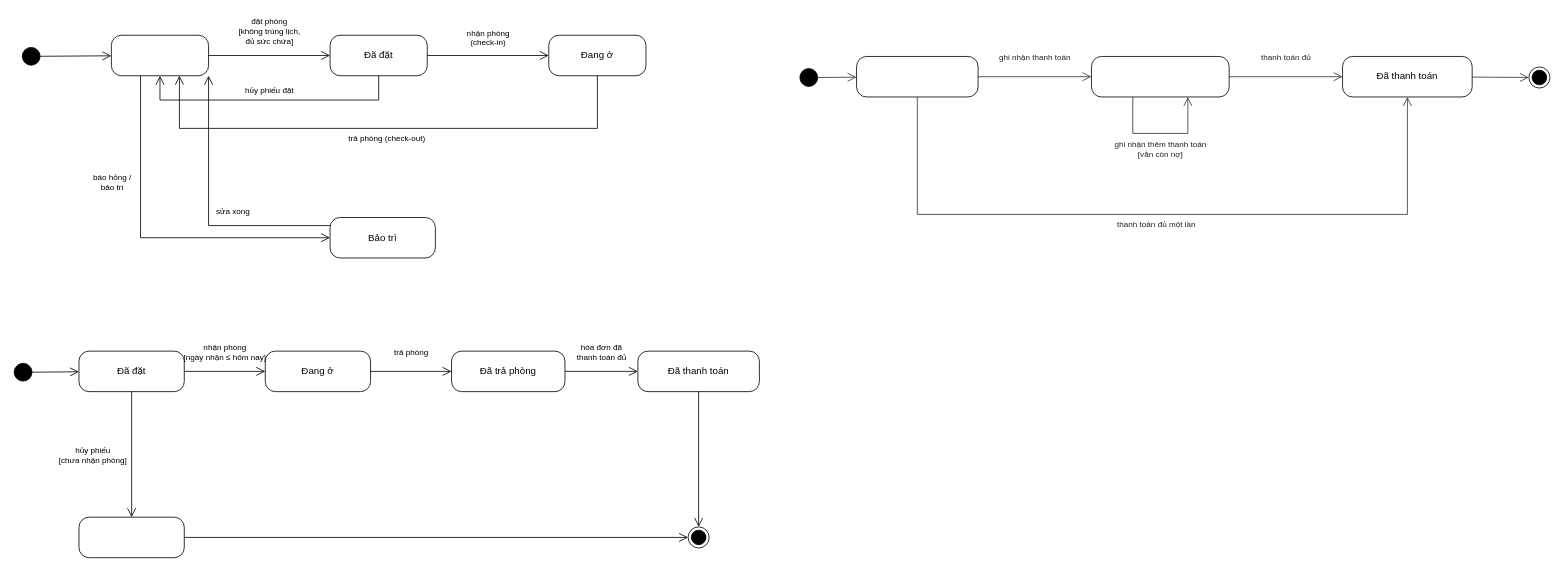
This 1564x572 diagram has some shape labels left out. Each missing label, with the box of its shape:
Chưa thanh toán: (856, 56, 978, 97)
Thanh toán một phần: (1091, 56, 1229, 97)
Trống: (111, 34, 209, 76)
Đã hủy: (78, 516, 184, 558)
